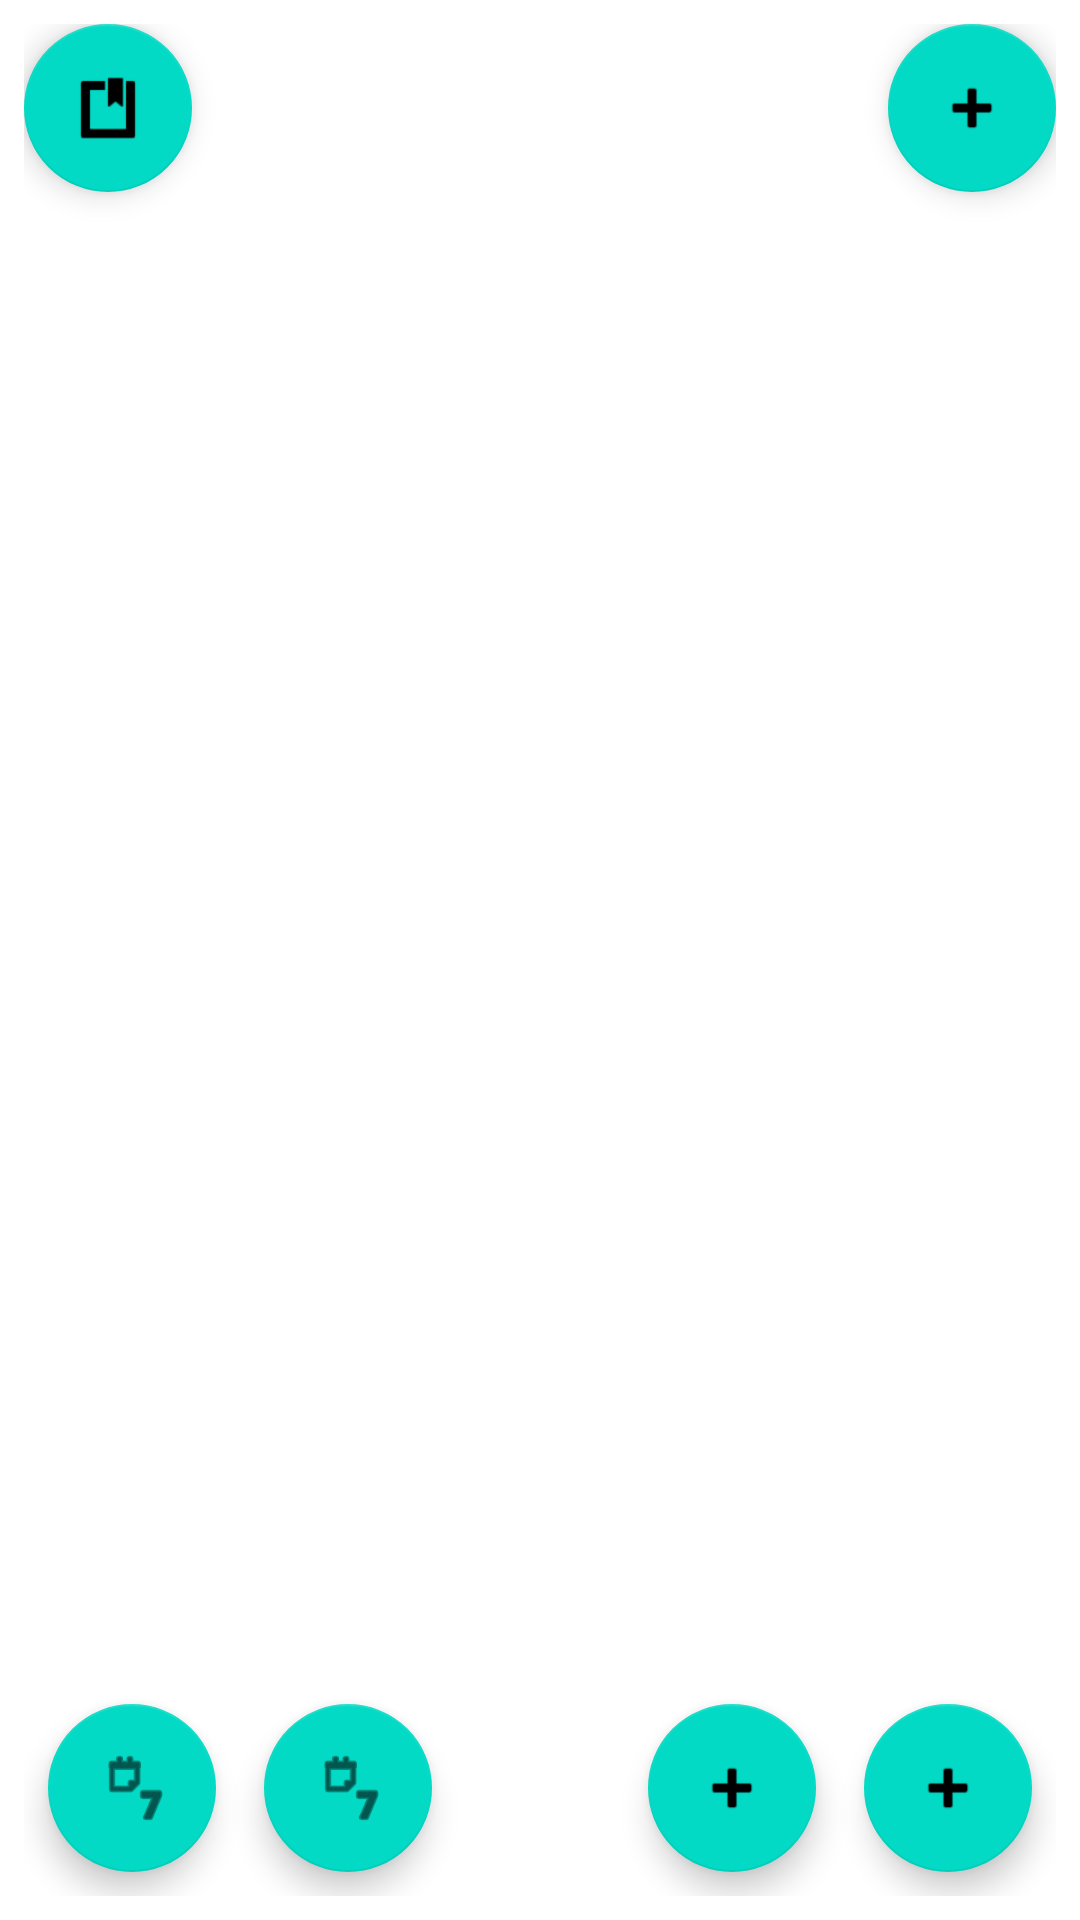

Point at icon controls on the screen. Image size 1080w x 1920h, points as [x,y].
add: [972,108], [732,1788], [948,1788]
week: [132,1788], [348,1788]
